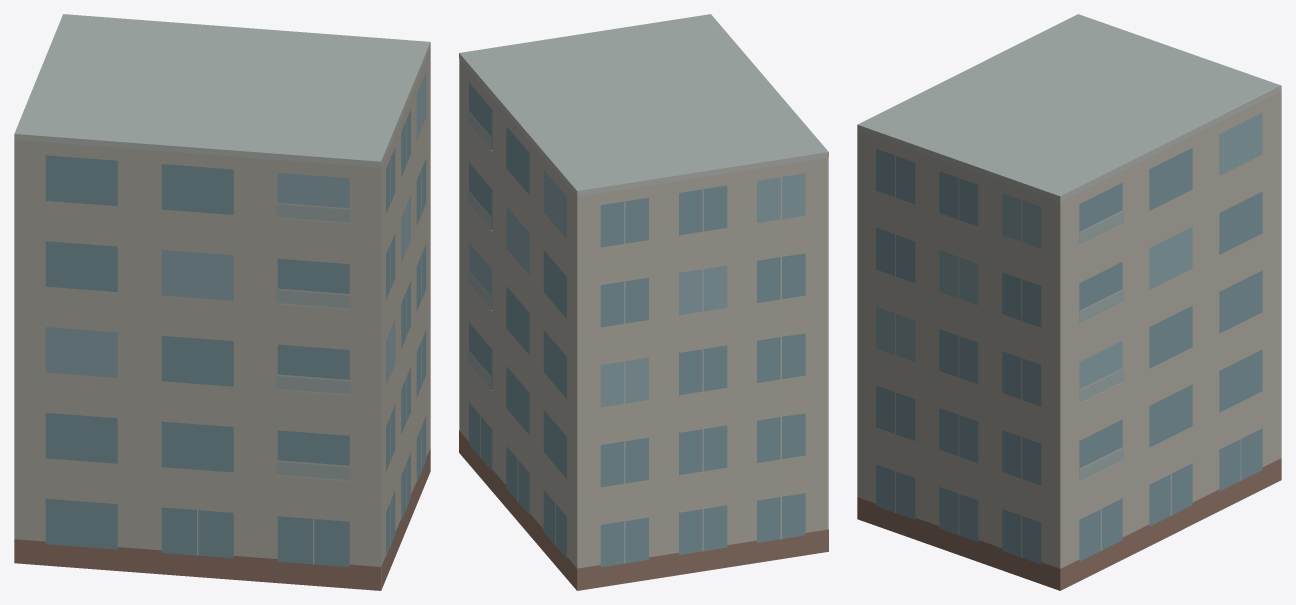
The model's file is survey-upis-33007002.glb.
3 views of the same model, side by side, from view 1: azimuth 30°, elevation 25°; view 2: azimuth 150°, elevation 25°; view 3: azimuth 270°, elevation 25° (orthographic). The views are drawn at different scales.
Parts seen in each view (by area): view 1: survey-upis-33007002.tmp; view 2: survey-upis-33007002.tmp; view 3: survey-upis-33007002.tmp.
Part boxes in pixels (x1,y1,x2,y2): survey-upis-33007002.tmp: (14, 14, 430, 590); survey-upis-33007002.tmp: (459, 14, 828, 590); survey-upis-33007002.tmp: (857, 14, 1281, 590).
Bounding box in the file's own units: 17.02 × 17.16 × 16.73.
